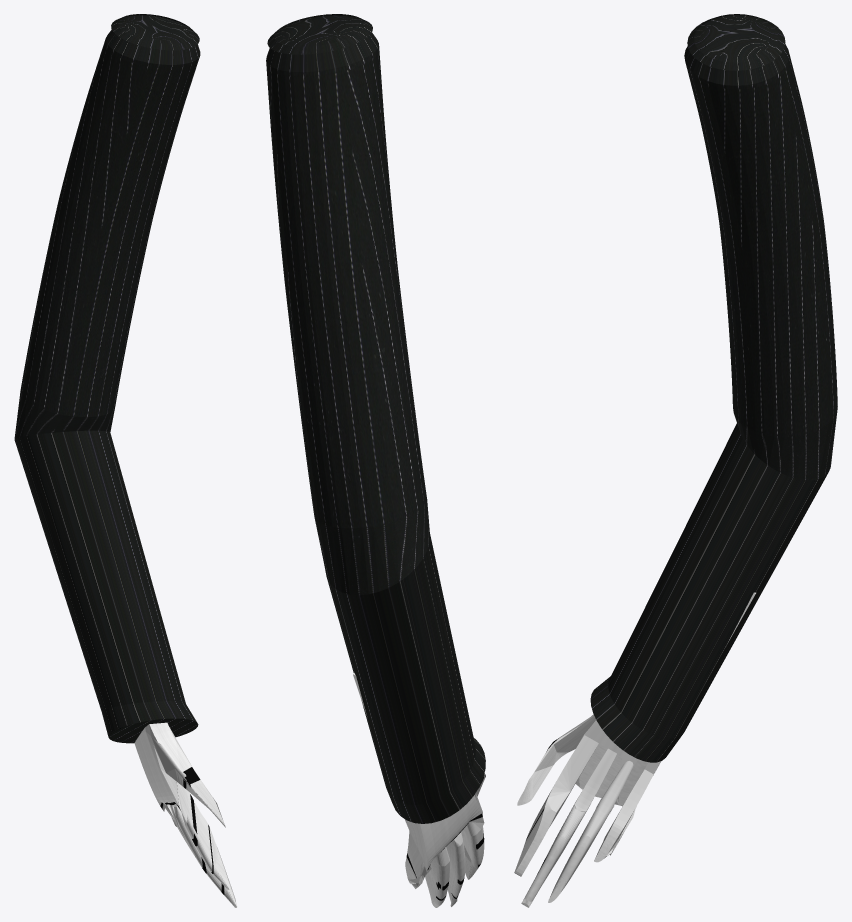
Rendered from brazoDerJack.obj.
The picture shows the model from 3 angles, left to right: view 1: azimuth 30°, elevation 25°; view 2: azimuth 150°, elevation 25°; view 3: azimuth 270°, elevation 25°; orthographic projection. The views are drawn at different scales.
Parts seen in each view (by area): view 1: Cube_Cube_traje.001, Cube_Cube_Material.002; view 2: Cube_Cube_traje.001, Cube_Cube_Material.002; view 3: Cube_Cube_traje.001, Cube_Cube_Material.002.
Part boxes in pixels (box(x1,y1,x2,y2)): Cube_Cube_traje.001: box(14, 14, 200, 743); Cube_Cube_Material.002: box(134, 722, 237, 907); Cube_Cube_traje.001: box(266, 14, 485, 823); Cube_Cube_Material.002: box(353, 673, 485, 907); Cube_Cube_traje.001: box(590, 14, 837, 762); Cube_Cube_Material.002: box(514, 592, 755, 907).
Size of the model in its own units: 3.51 by 18.07 by 5.99.
